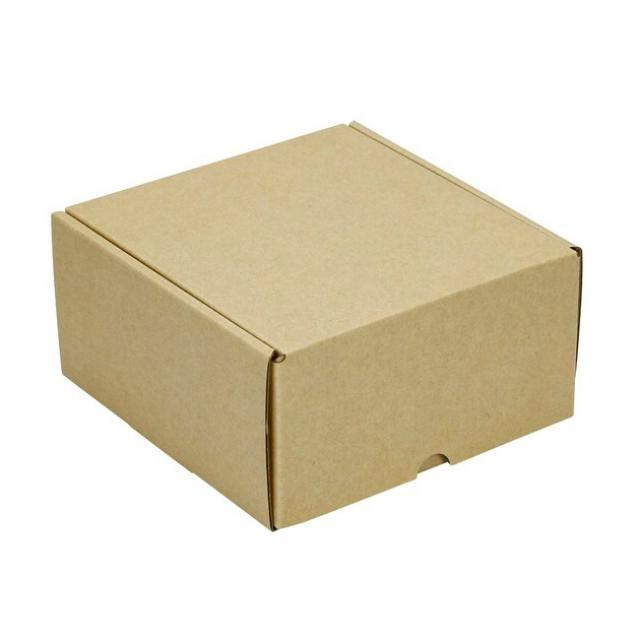box: (47, 105, 593, 545)
